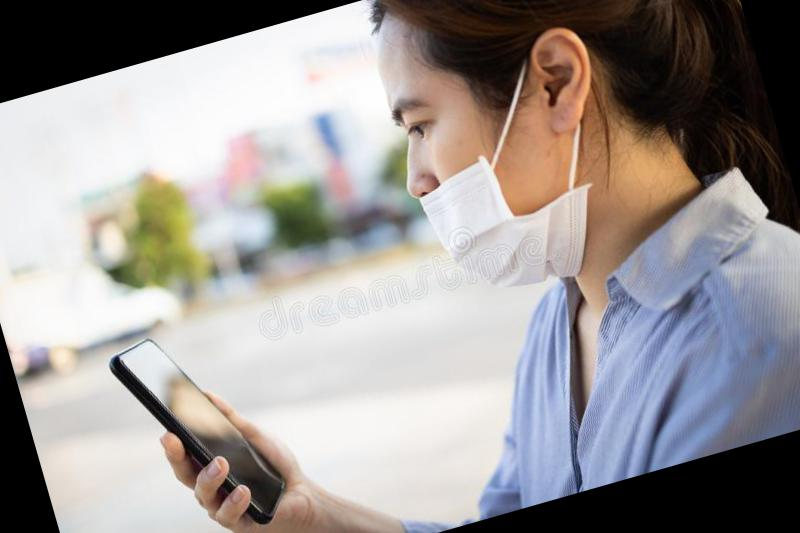mask_weared_incorrect: (366, 25, 599, 319)
